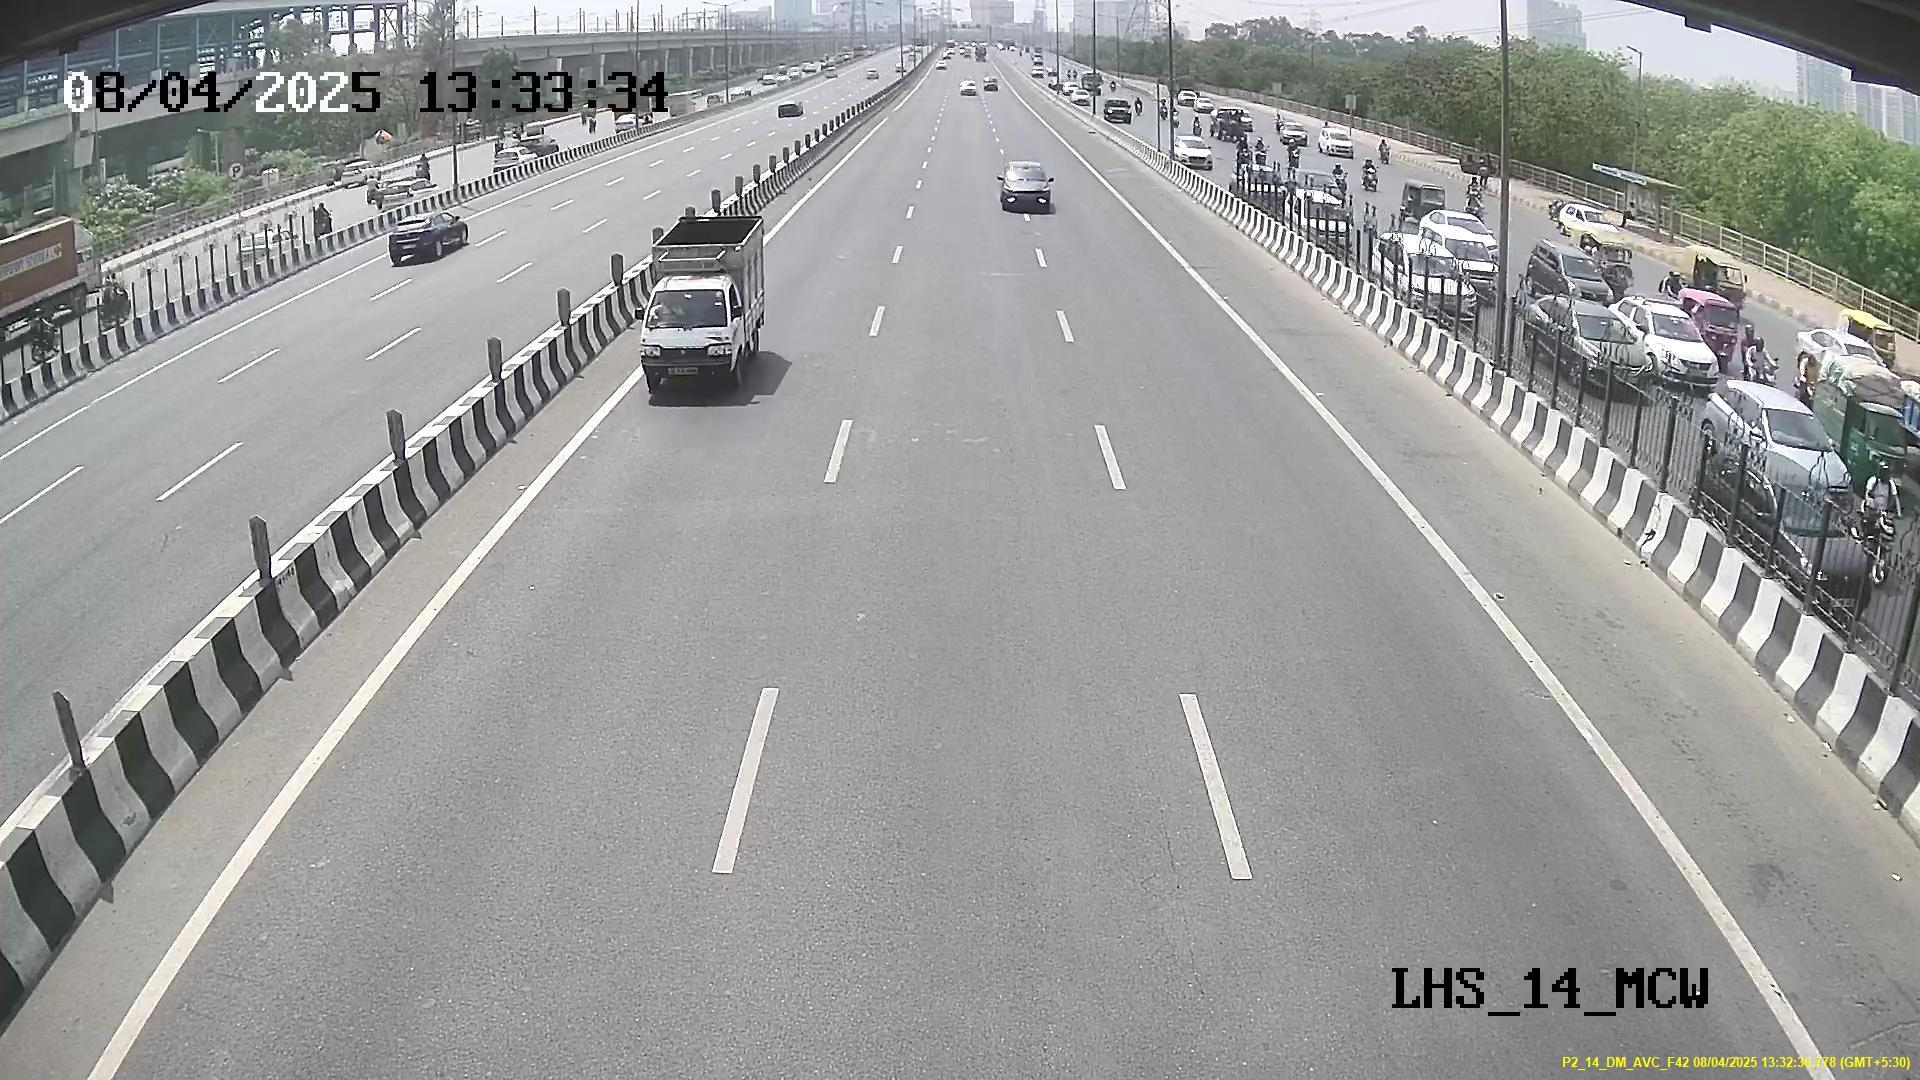car: (636, 273, 752, 392)
